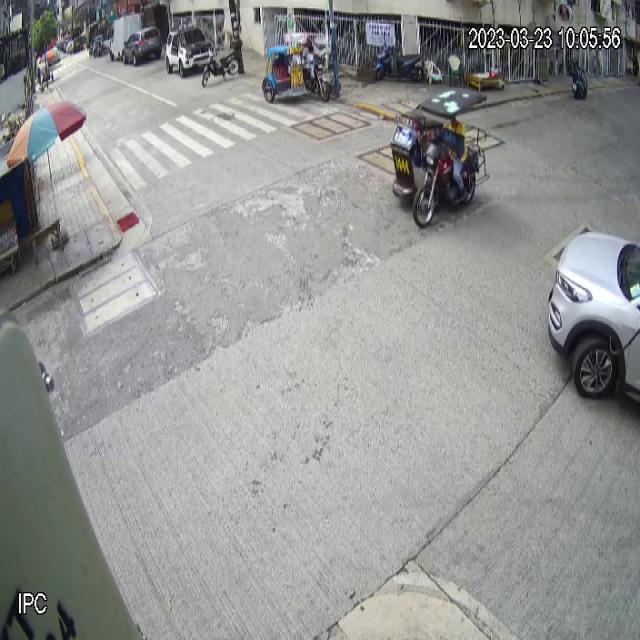Tricycle: (389, 84, 492, 230), (262, 32, 332, 104)
